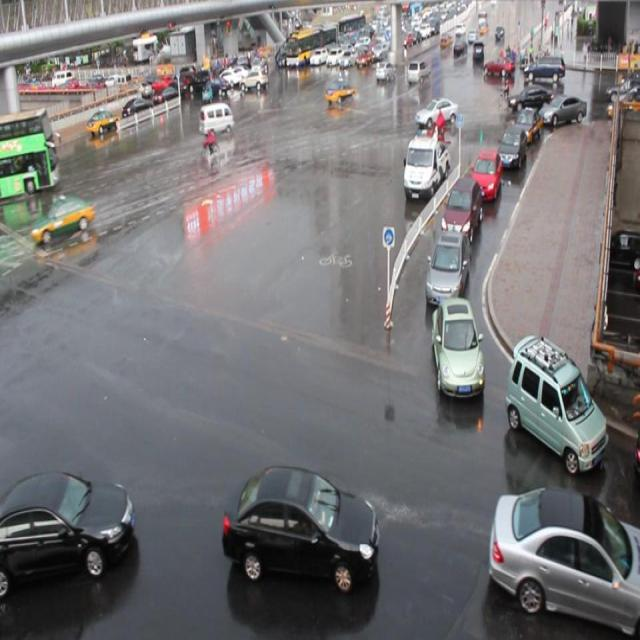bus: (402, 127, 450, 201)
car: (488, 482, 640, 630), (221, 463, 378, 586), (1, 470, 135, 592), (503, 327, 609, 472), (430, 298, 484, 398), (424, 228, 468, 304), (30, 193, 95, 243), (440, 175, 480, 240), (535, 92, 585, 125), (470, 148, 501, 198), (506, 83, 551, 115), (414, 95, 456, 128), (495, 125, 526, 169), (512, 107, 542, 143), (326, 80, 357, 104)
truck: (198, 101, 234, 135)
van: (1, 108, 58, 198)
